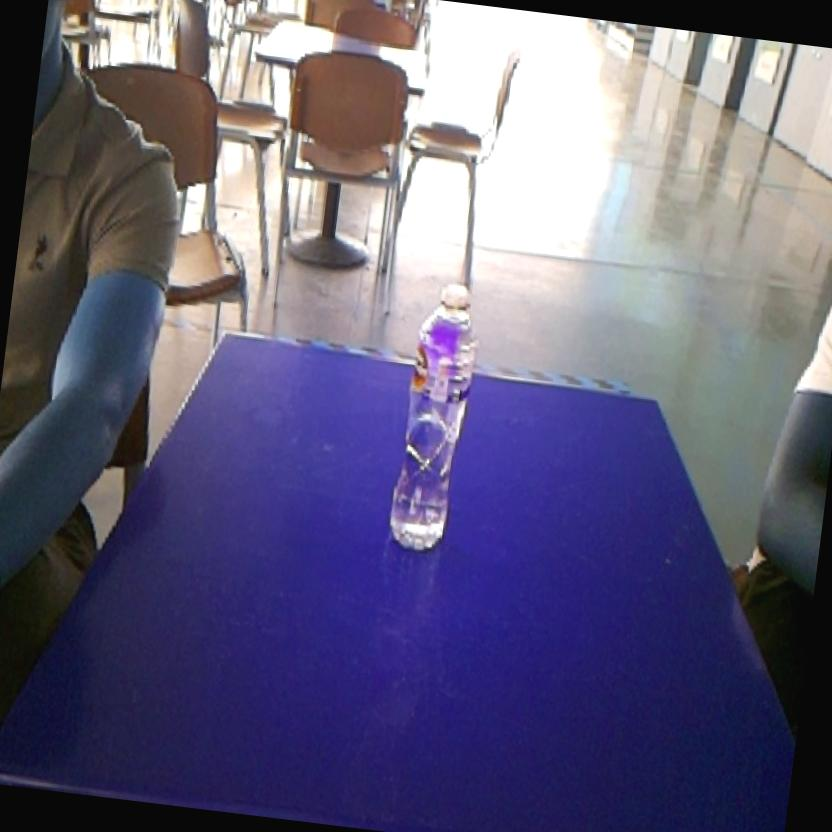no_cap: (374, 267, 492, 567)
